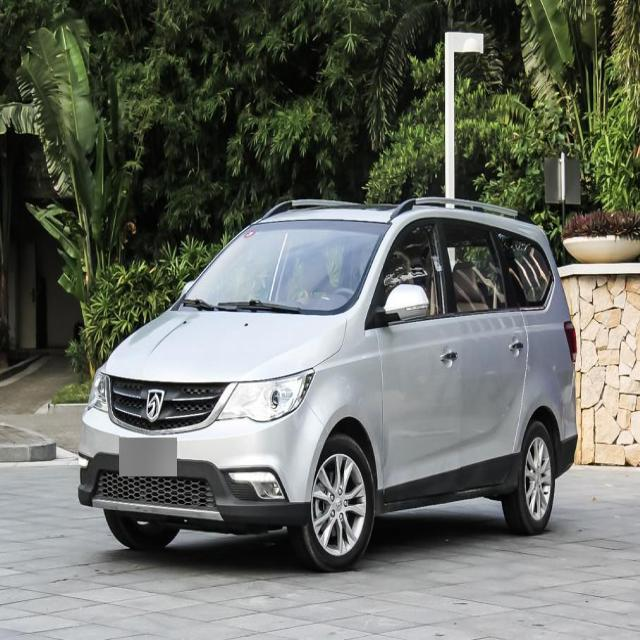back_left_side_light: (562, 317, 581, 364)
door: (443, 219, 532, 477)
front_bumper: (80, 396, 326, 524)
front_glass: (184, 219, 388, 313)
front_left_side_door: (372, 213, 462, 507)
front_left_side_light: (216, 365, 315, 423)
front_left_side_mirror: (380, 279, 430, 326)
front_right_side_light: (90, 370, 111, 414)
wheel: (305, 440, 374, 568), (508, 421, 556, 532)
